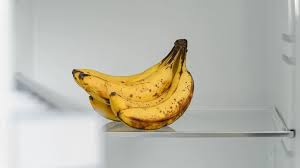banana: (69, 37, 196, 130)
